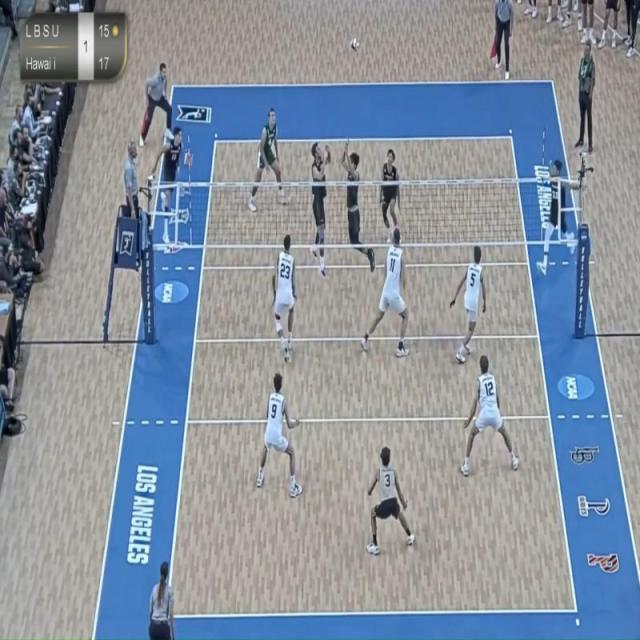volleyball: (348, 30, 362, 56)
